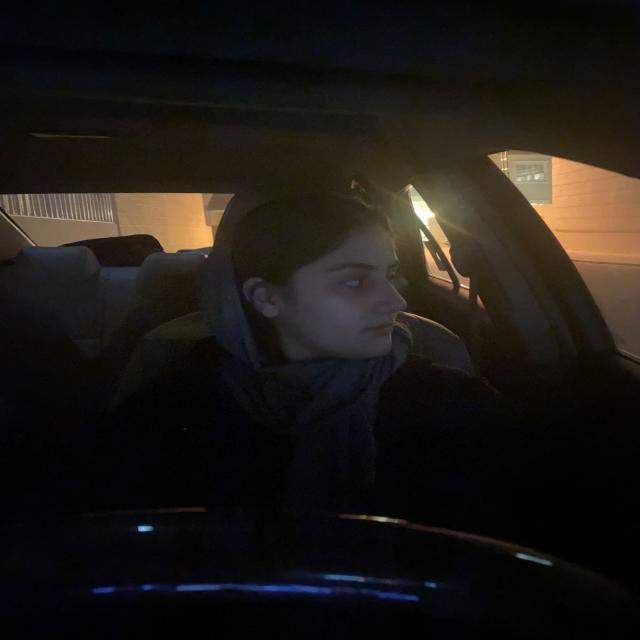LeftRight: (234, 204, 424, 367)
